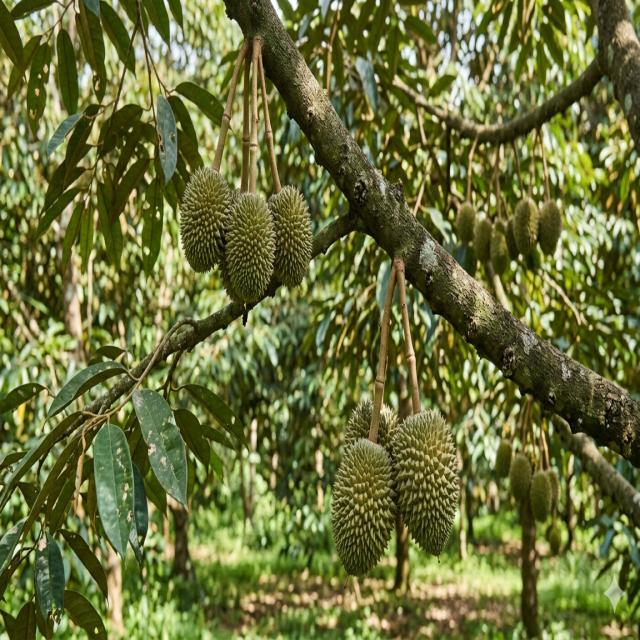immature: (390, 405, 460, 556), (330, 435, 398, 577), (222, 190, 277, 302), (179, 164, 232, 271), (266, 182, 314, 286), (345, 396, 397, 458), (529, 467, 557, 521), (513, 198, 539, 255), (537, 198, 562, 256), (508, 450, 533, 504), (489, 222, 510, 272), (473, 215, 494, 264), (456, 201, 477, 243), (495, 438, 513, 478), (505, 218, 520, 260), (546, 522, 563, 554), (464, 240, 478, 272)
